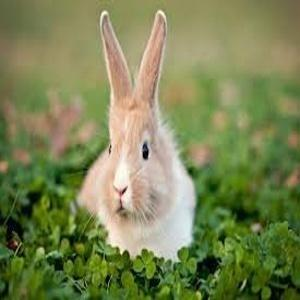rabbit: (76, 10, 197, 263)
